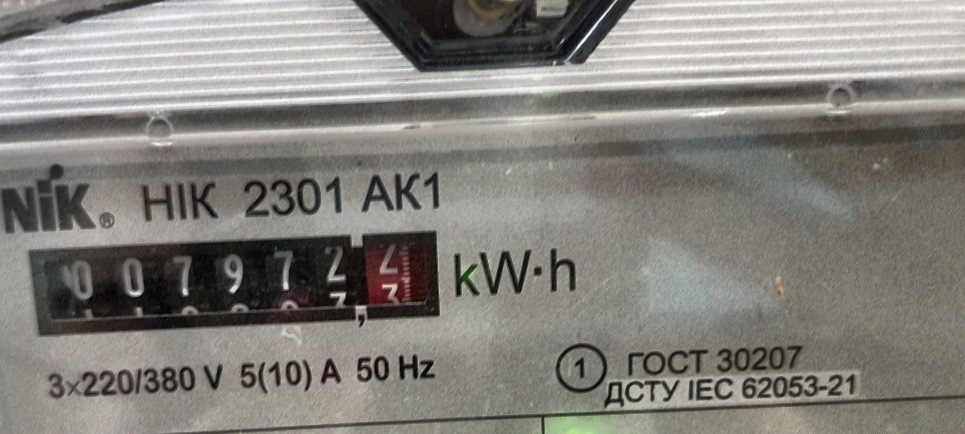0: (68, 257, 95, 299), (119, 254, 145, 297)
2: (322, 244, 347, 283), (374, 242, 398, 276)
3: (377, 279, 400, 305)
7: (270, 246, 297, 293), (169, 252, 195, 298)
9: (220, 250, 244, 294)
screen: (11, 217, 457, 350)
